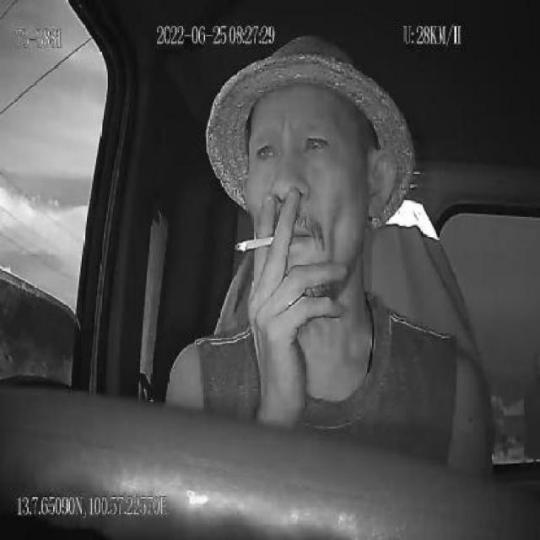smoking: (235, 235, 276, 252)
